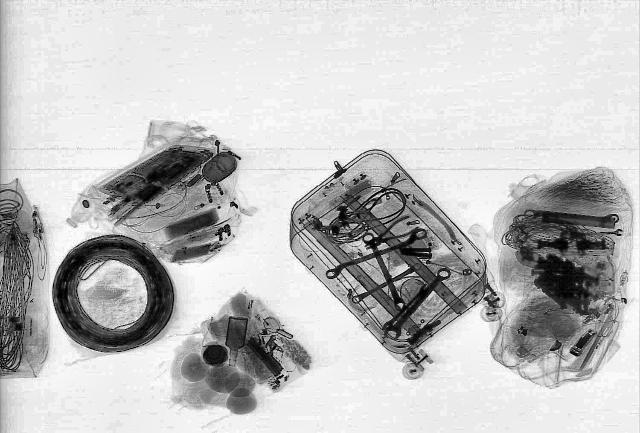Pliers: (356, 215, 422, 253)
Wrench: (378, 265, 458, 341), (319, 227, 431, 281), (356, 231, 410, 310), (348, 261, 427, 305), (564, 254, 608, 280), (524, 209, 618, 221), (588, 228, 622, 238)
